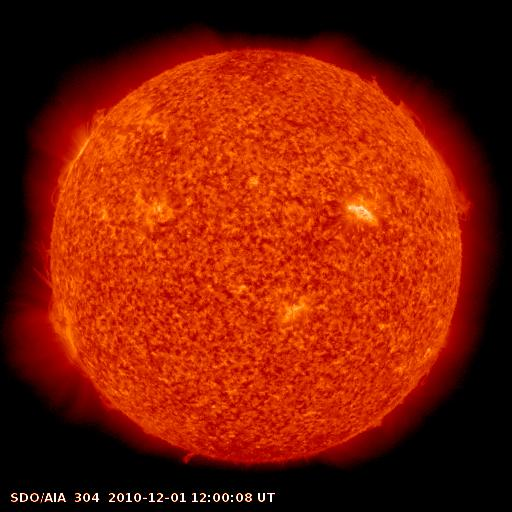prominence: (424, 138, 486, 225), (360, 68, 434, 135), (28, 234, 75, 339), (83, 96, 125, 137), (171, 434, 210, 478), (91, 380, 131, 417)
